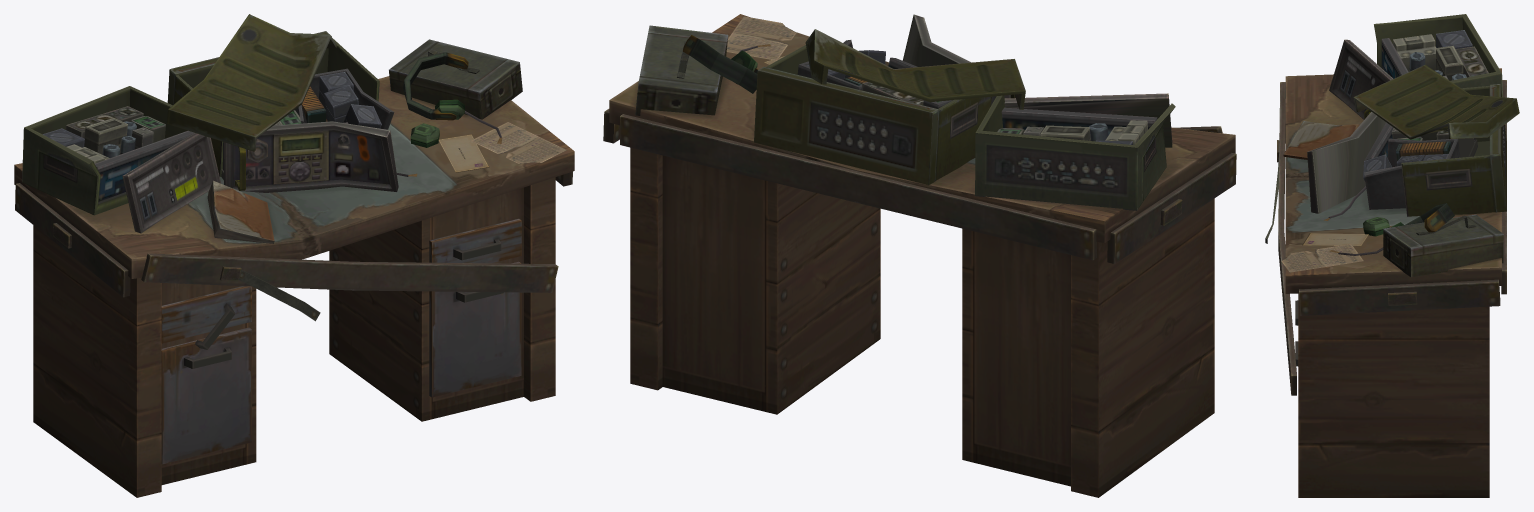
The model's file is RadioRepair.FBX.
3 views of the same model, side by side, from view 1: azimuth 30°, elevation 25°; view 2: azimuth 150°, elevation 25°; view 3: azimuth 270°, elevation 25° (orthographic). The views are drawn at different scales.
Visible parts, largest first — view 1: Radio_damaged; view 2: Radio_damaged; view 3: Radio_damaged.
Part boxes in pixels (left/top/right/bottom): Radio_damaged: left=14, top=14, right=574, bottom=497; Radio_damaged: left=603, top=14, right=1236, bottom=497; Radio_damaged: left=1265, top=14, right=1519, bottom=497.
Bounding box in the file's own units: 1.79 × 1.25 × 0.9123.
1 material, 1 textured.
